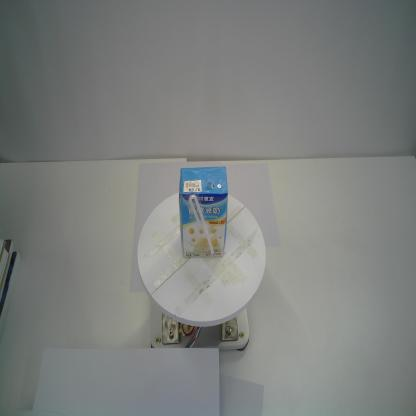Milk: (178, 164, 229, 260)
